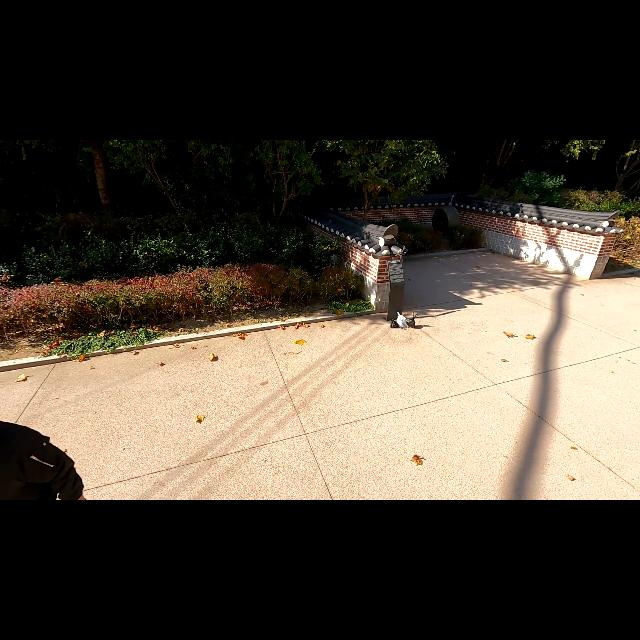trash: (394, 312, 408, 328), (406, 312, 418, 328), (390, 320, 400, 328)
